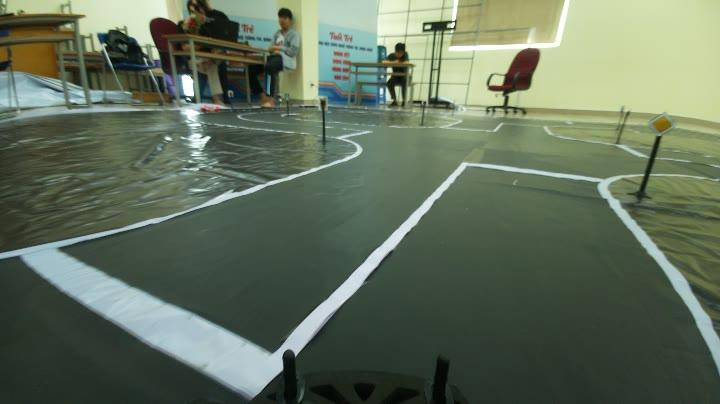priority: (647, 110, 679, 142)
